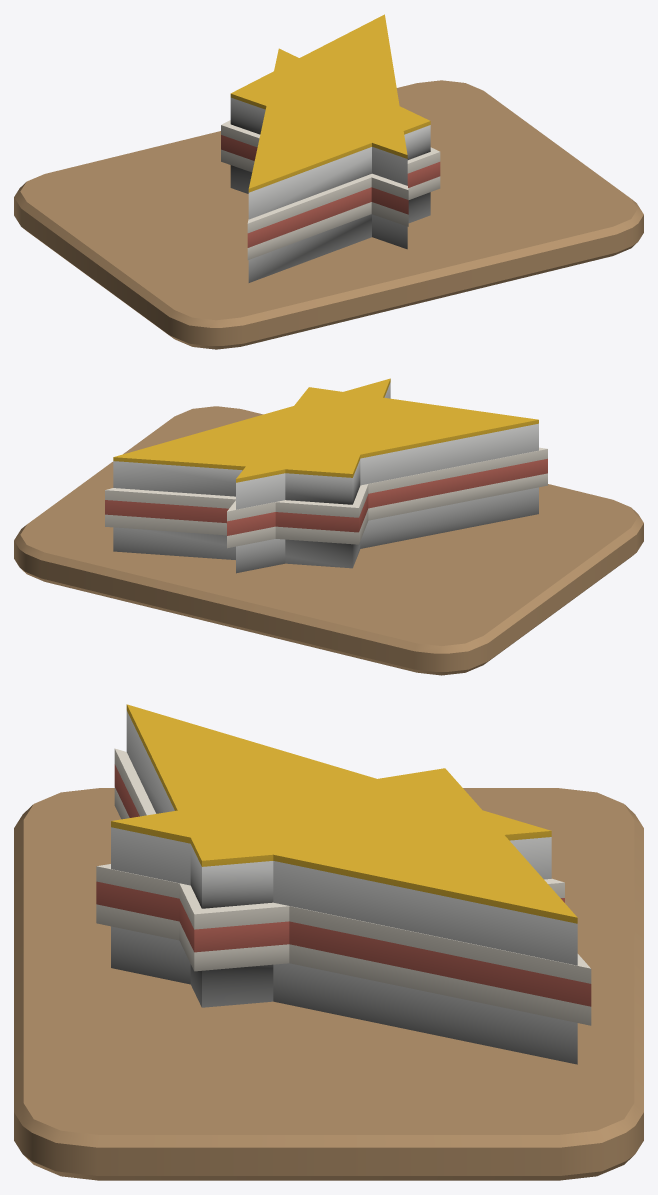
Rendered from meal_sandwich.glb.
The picture shows the model from 3 angles, top to bottom: view 1: azimuth 30°, elevation 25°; view 2: azimuth 150°, elevation 25°; view 3: azimuth 270°, elevation 25°; orthographic projection. The views are drawn at different scales.
Parts seen in each view (by area): view 1: PART; view 2: PART; view 3: PART.
Part boxes in pixels (x1,y1,x2,y2): PART: (14, 14, 643, 349); PART: (14, 378, 643, 675); PART: (14, 704, 643, 1180).
Bounding box in the file's own units: 0.264 × 0.0668 × 0.198.
